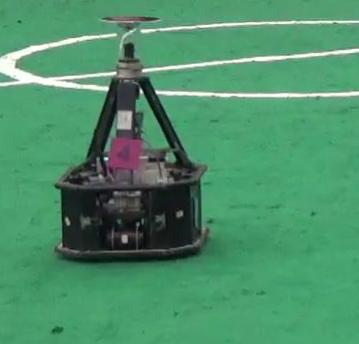robot: (56, 11, 211, 264)
